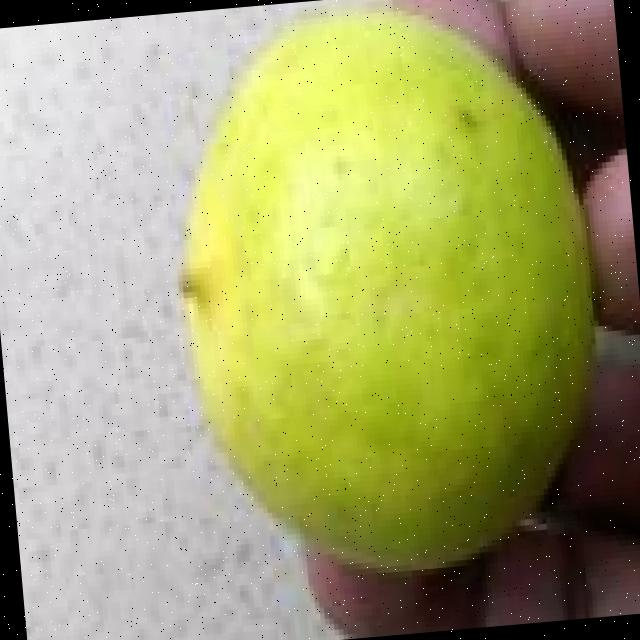Good_Lime-10-21-days: (179, 0, 603, 577)
